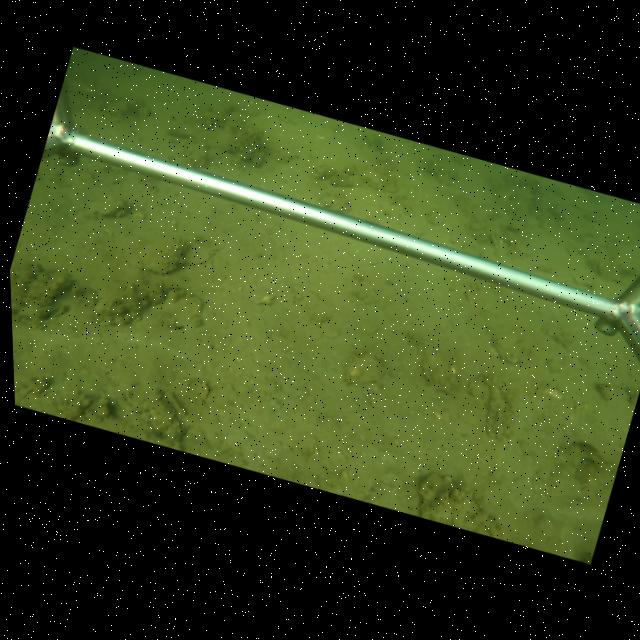Oyster-Closed: (138, 236, 189, 277), (91, 198, 125, 219)
